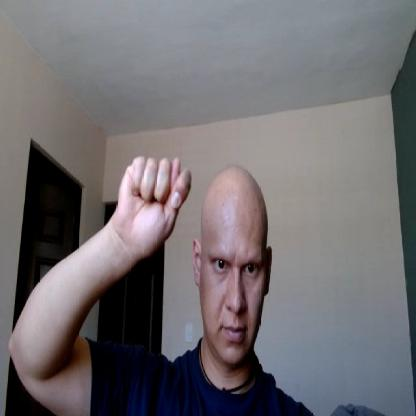T: (115, 151, 194, 255)
